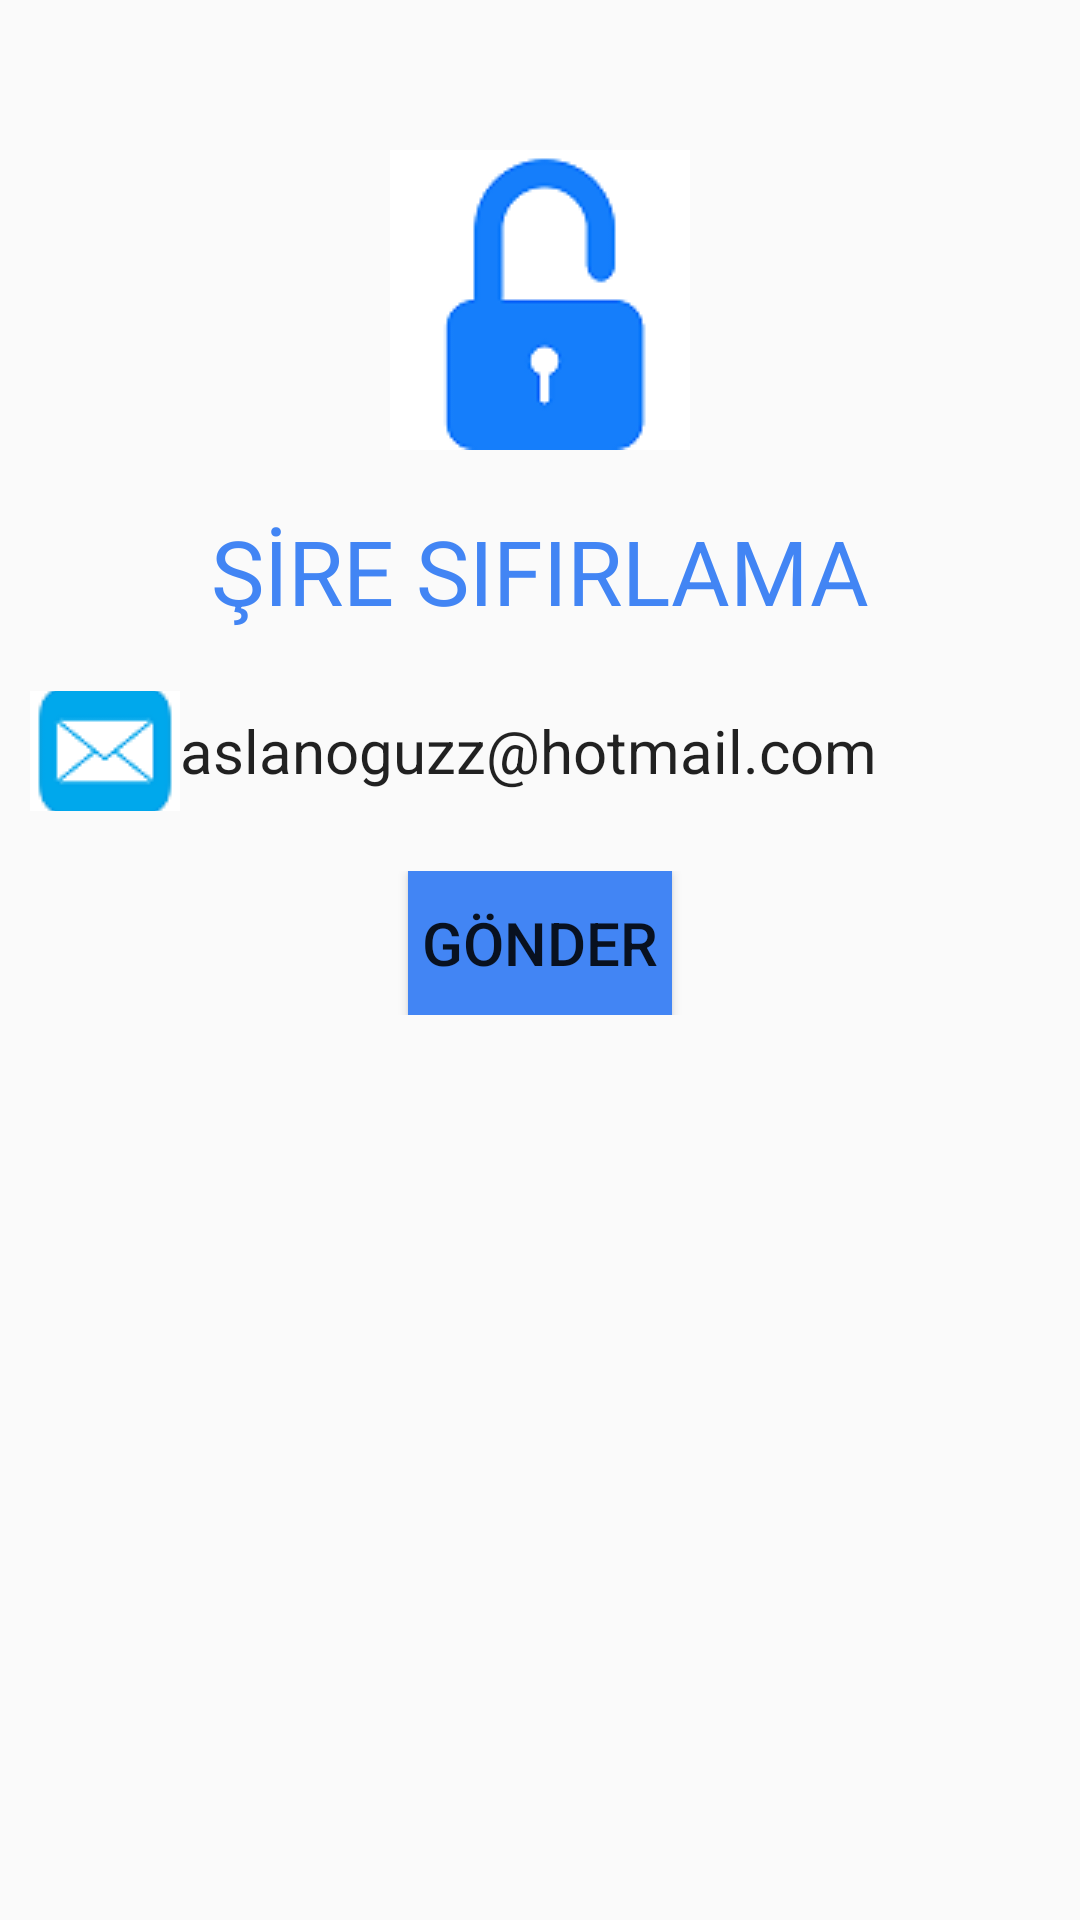

Point at icon controls on the screen. Image size 1080 × 1920, points as (x=x, y=y).
lockicon: (x=545, y=304)
